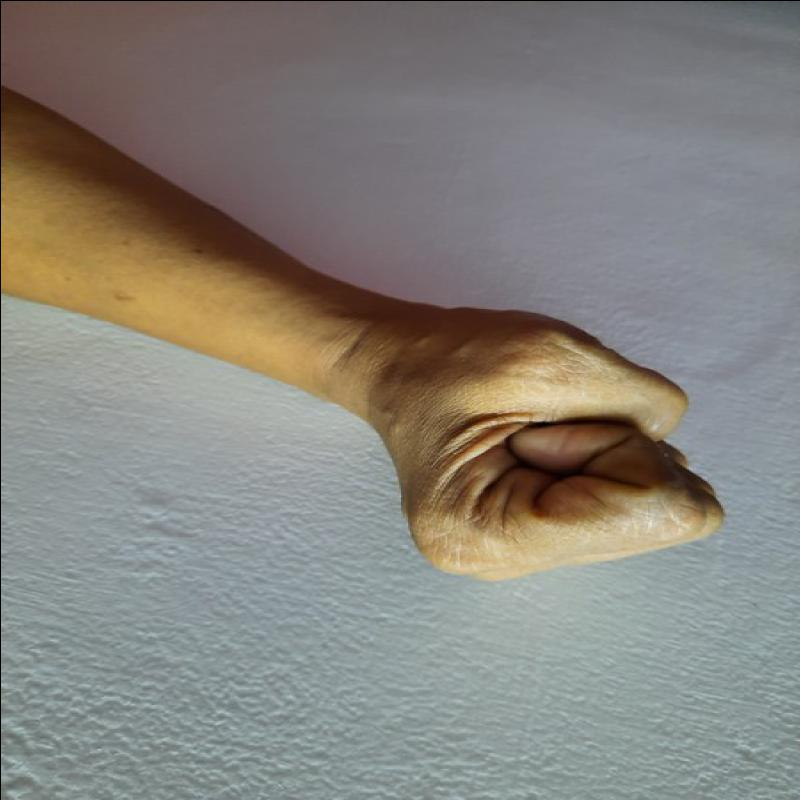Mushti: (374, 285, 730, 642)
